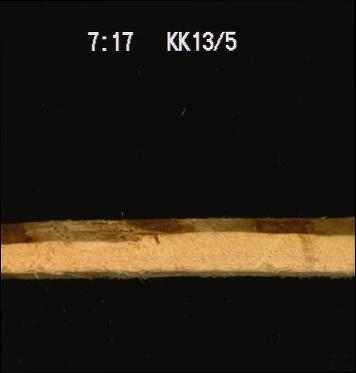wave: (1, 213, 354, 246), (0, 262, 353, 284)
